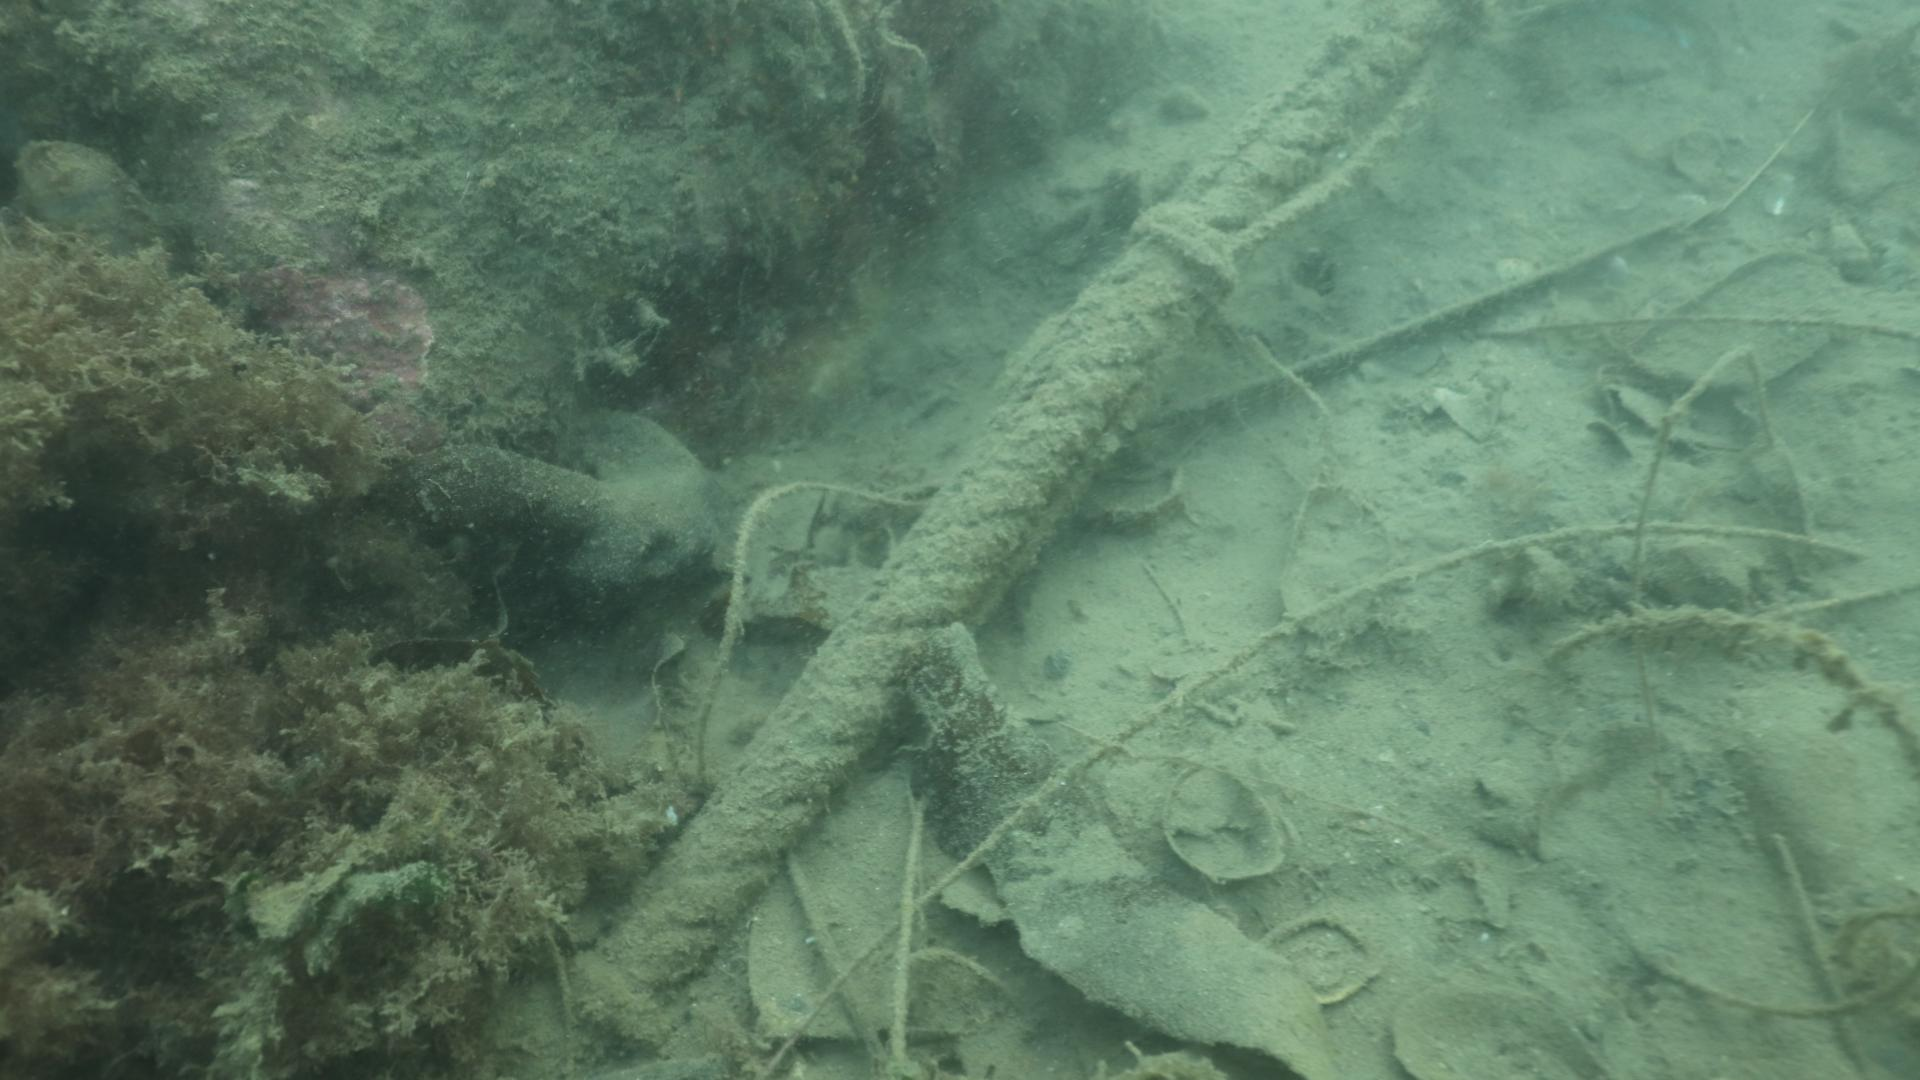rope: (587, 0, 1458, 1054)
